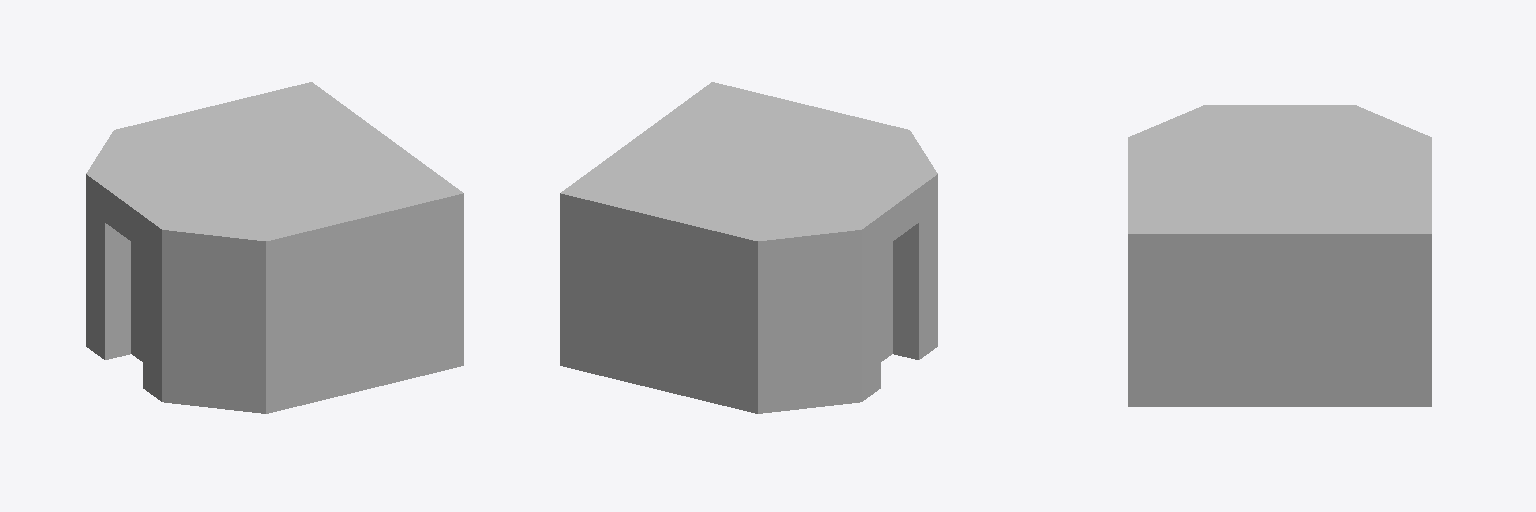
The picture shows the model from 3 angles: view 1: azimuth 30°, elevation 25°; view 2: azimuth 150°, elevation 25°; view 3: azimuth 270°, elevation 25°; orthographic projection.
Parts seen in each view (by area): view 1: G-__556095_G-__556095_Brick, G-__556095_G-__556095_Glass; view 2: G-__556095_G-__556095_Brick, G-__556095_G-__556095_Glass; view 3: G-__556095_G-__556095_Brick.
Part boxes in pixels (bbox=[...]): G-__556095_G-__556095_Brick: bbox=[86, 82, 463, 413]; G-__556095_G-__556095_Glass: bbox=[131, 242, 142, 361]; G-__556095_G-__556095_Brick: bbox=[560, 82, 937, 413]; G-__556095_G-__556095_Glass: bbox=[881, 242, 892, 361]; G-__556095_G-__556095_Brick: bbox=[1128, 105, 1431, 406].
Size of the model in its own units: 1 by 0.625 by 1.